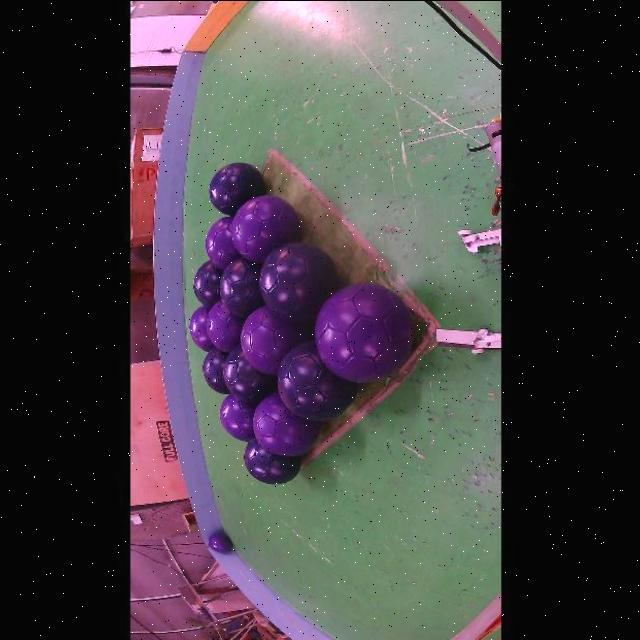B: (278, 341, 358, 420), (260, 242, 337, 320), (223, 345, 276, 403), (209, 162, 265, 214), (244, 438, 301, 484), (220, 257, 264, 316), (194, 260, 223, 306), (203, 346, 230, 394)
P: (316, 283, 414, 381), (240, 305, 314, 374), (231, 194, 300, 262), (253, 391, 320, 456), (207, 300, 245, 351), (205, 214, 240, 269), (220, 394, 257, 440), (190, 305, 214, 351), (209, 532, 232, 553)
